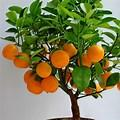orange: (23, 68, 59, 90), (39, 74, 68, 96), (8, 43, 32, 69), (33, 59, 54, 81), (51, 47, 71, 70), (84, 42, 107, 60)
